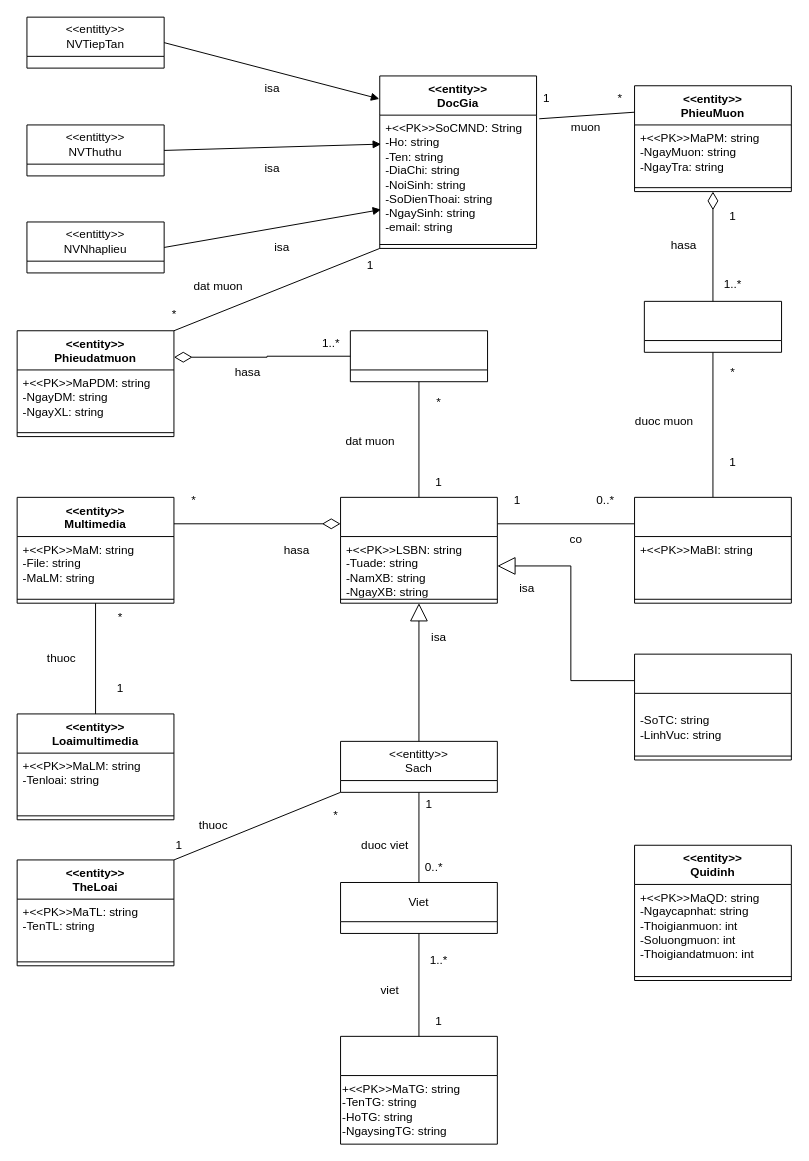
This 809x1161 diagram has some shape labels left out. The shapes that lost their labels are listed below. From the top down, each one's box as (x1, y1, x2, y2) in pixels, then its label:
(643, 300, 782, 352): <<entitty>> CTPhieumuon
(349, 330, 488, 382): <<entitty>> CTPhieudatmuon
(340, 496, 497, 603): <<entity>> Tailieu
(634, 496, 791, 603): <<entity>> Banin
(634, 653, 791, 760): <<entity>> Tapchi
(340, 1035, 497, 1144): <<entitty>> Tacgia
